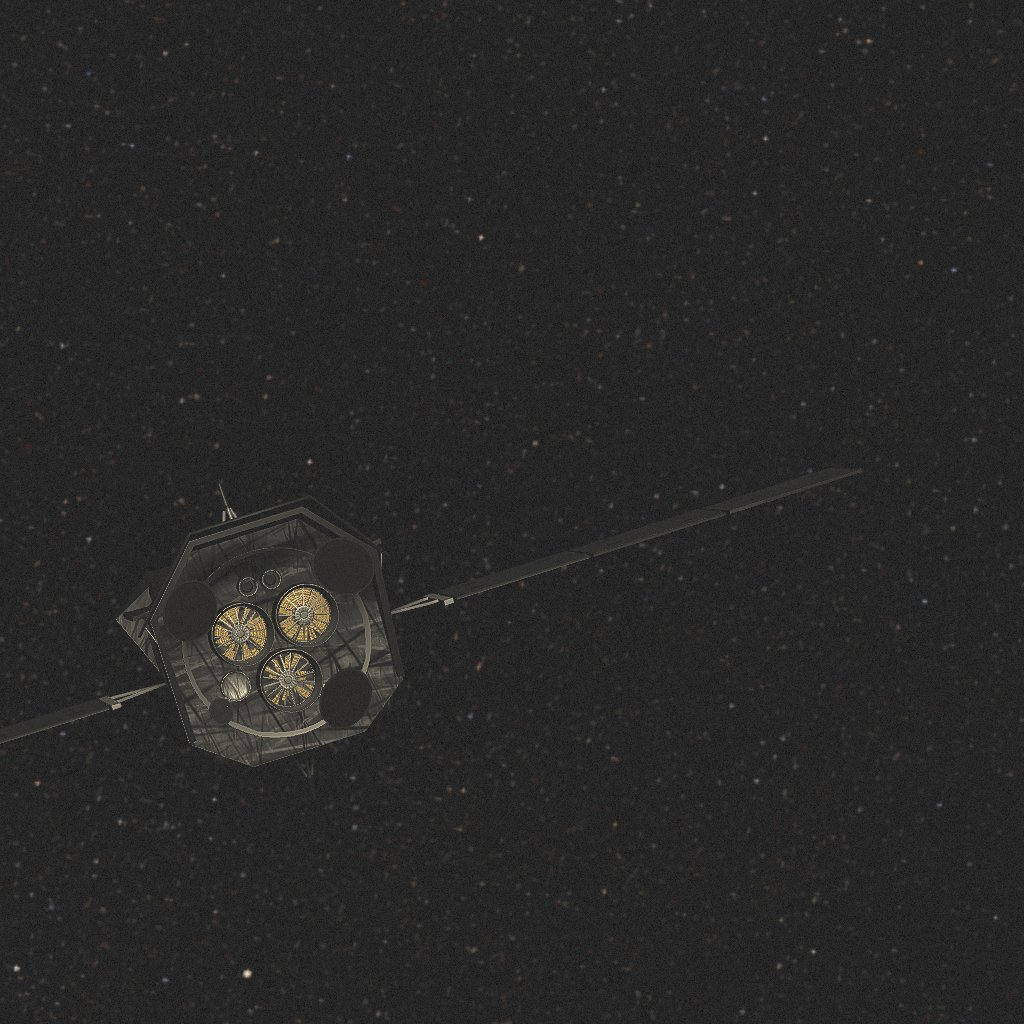xmm_newton: (0, 468, 861, 800)
